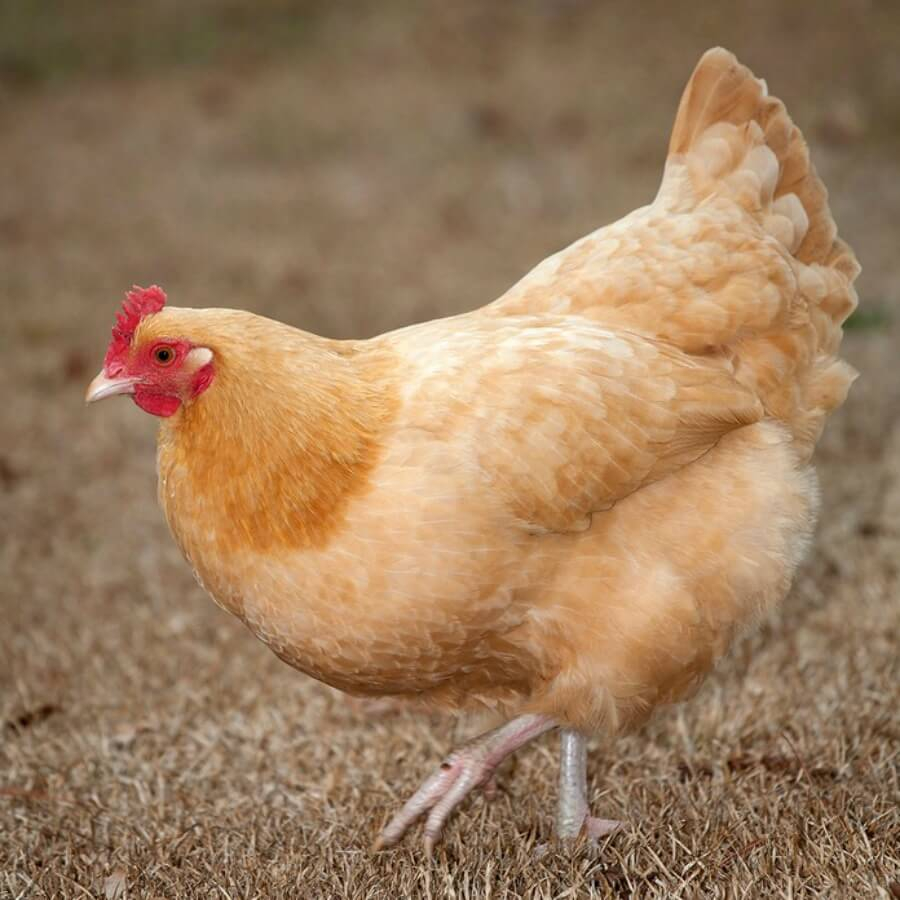buff: (67, 287, 749, 712)
